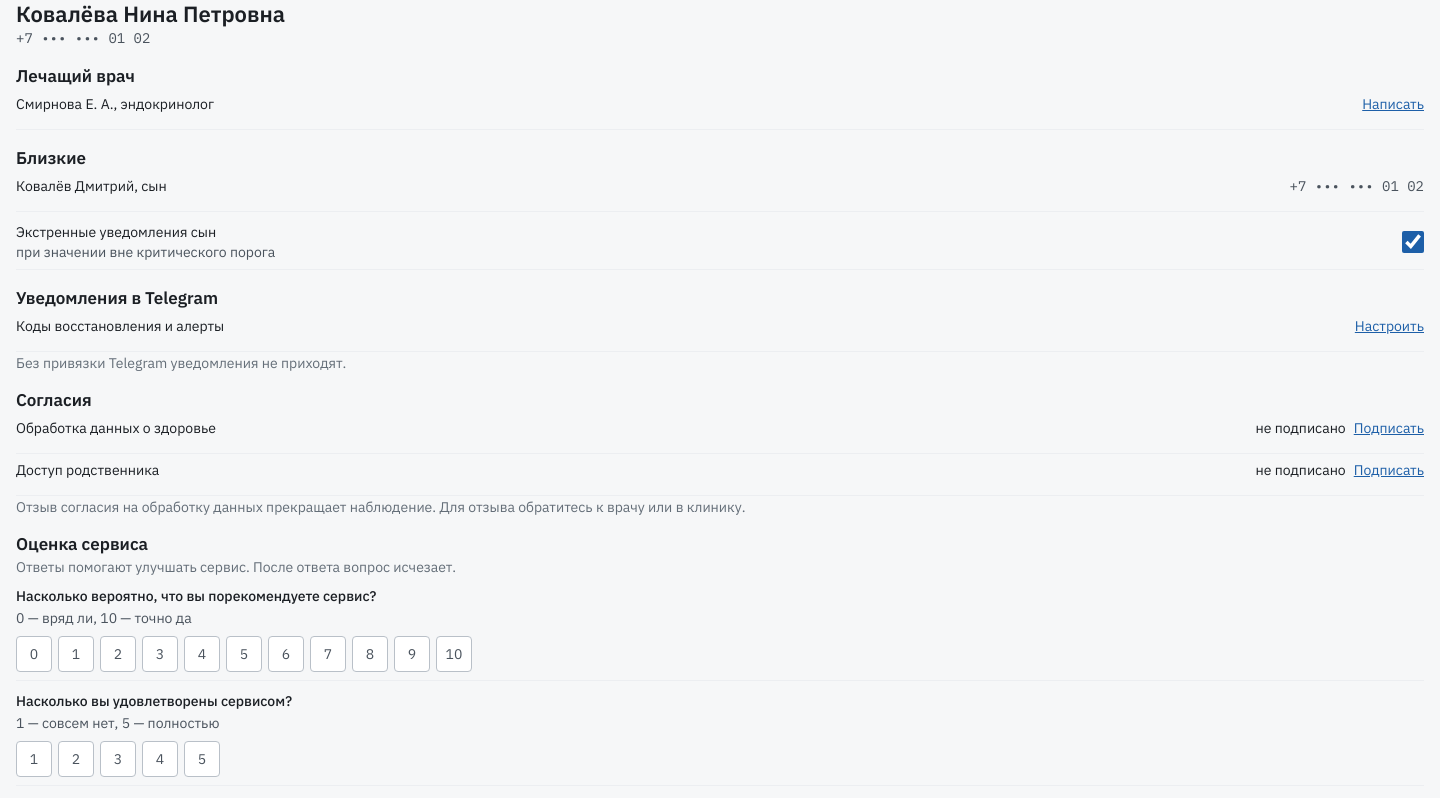
it: PatientProfile › открывает заглушку согласия и подписывает его
Click the button with aria-label "Подписать согласие «Обработка данных о здоровье»" at (1389, 428), box [1354, 418, 1424, 438]
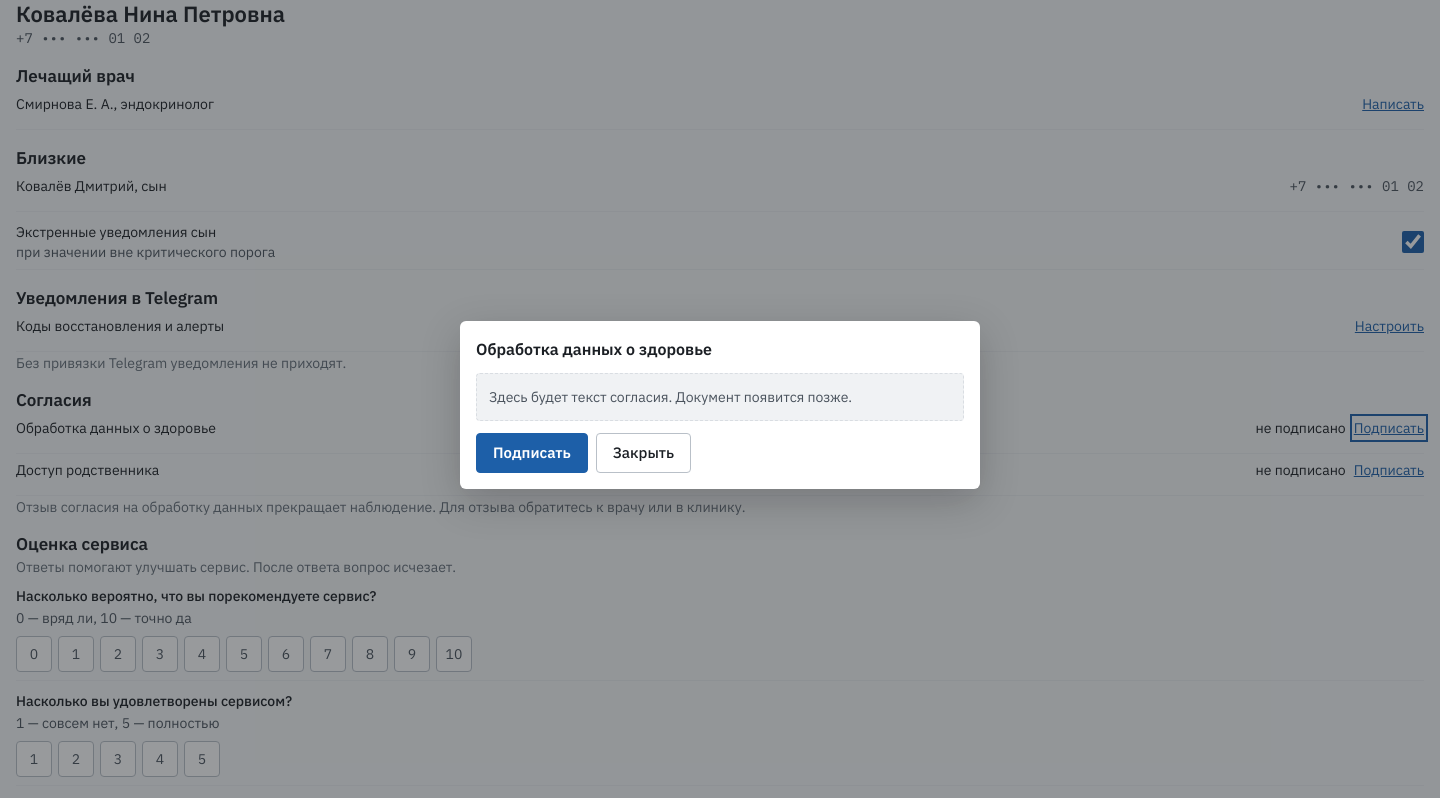
Expected: the dialog is shown, [460, 321, 980, 489]
Expected: the text "Здесь будет текст согласия. Документ появится позже." is shown, [476, 373, 964, 421]
Click the button "Подписать" at (532, 453), box [476, 433, 588, 473]
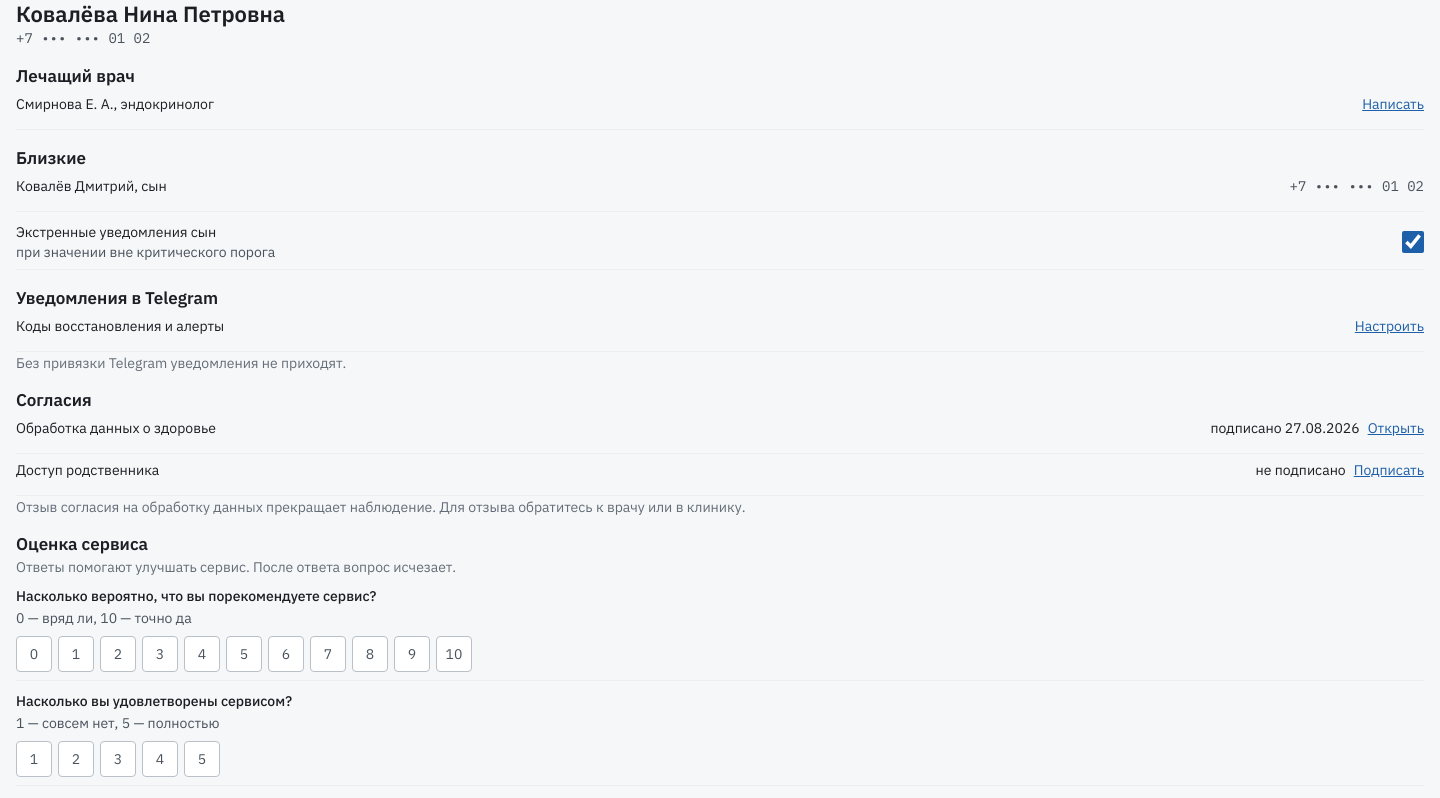
Expected: the text "подписано 27.08.2026" is shown, [1210, 418, 1360, 438]
Expected: the dialog is gone
